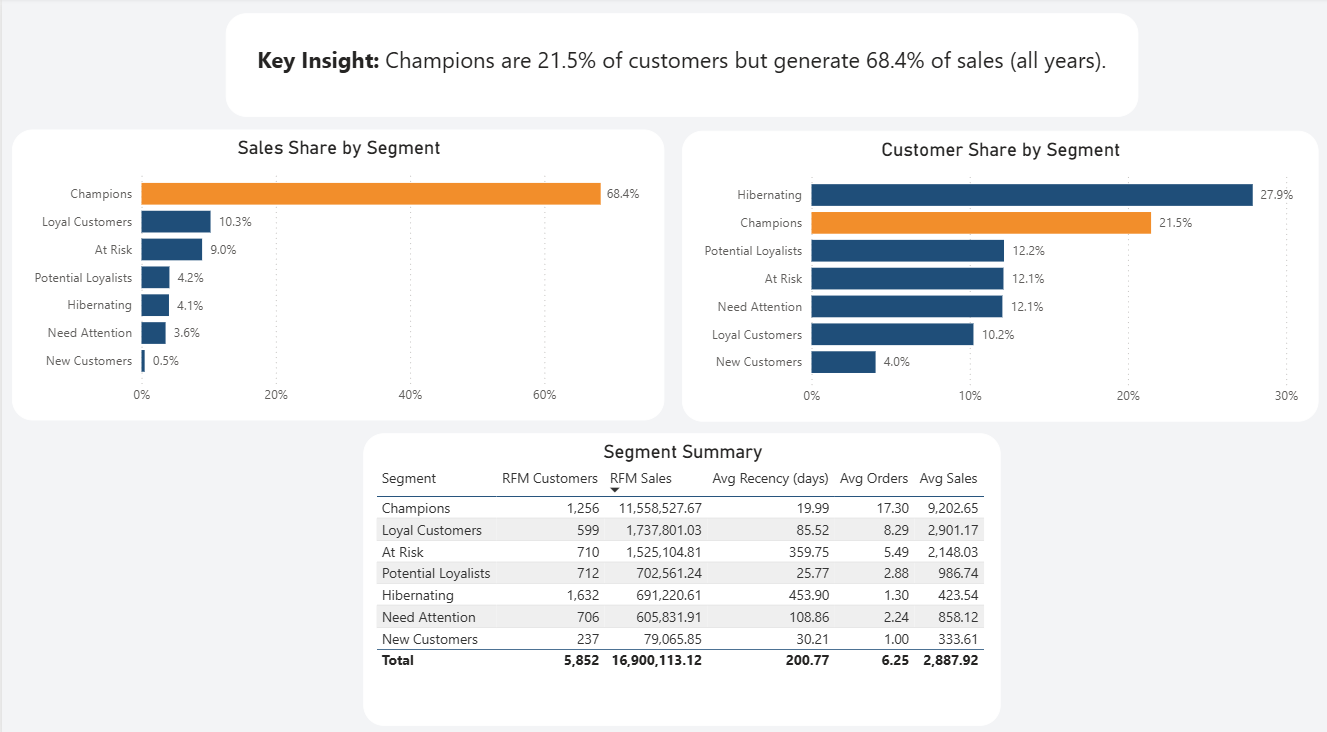

The dashboard page shown, as its layout file describes it:
{"tool":"powerbi","page":{"name":"RFM","canvas":[1280,720],"ordinal":3},"visuals":[{"type":"clusteredBarChart","title":"Sales Share by Segment","fields":{"Y":["_Measures.RFM Sales %"],"Category":["RFM_Segments.segment"]},"box":[9.7,127.9,629.8,281.1],"z":0},{"type":"clusteredBarChart","title":"Customer Share by Segment","fields":{"Category":["RFM_Segments.segment"],"Y":["_Measures.RFM Customers %"]},"box":[656.3,129.1,614.1,281.1],"z":1000},{"type":"tableEx","title":"Segment Summary","fields":{"Values":["RFM_Segments.segment","_Measures.RFM Customers","_Measures.RFM Sales","Avg(RFM_Segments.recency)","Avg(RFM_Segments.frequency)","Avg(RFM_Segments.monetary)"]},"box":[348.7,421,615.3,282.3],"z":2000},{"type":"textbox","box":[216,15.7,880.7,100.1],"z":3000}]}

Visuals, with their boxes in screenshot pixels (x1, y1, x2, y2), scaled from the page's 1280x720 canvas onto the 1327x732 screenshot:
"Sales Share by Segment" clusteredBarChart: {"left": 10, "top": 130, "right": 663, "bottom": 416}
"Customer Share by Segment" clusteredBarChart: {"left": 680, "top": 131, "right": 1317, "bottom": 417}
"Segment Summary" tableEx: {"left": 362, "top": 428, "right": 999, "bottom": 715}
textbox: {"left": 224, "top": 16, "right": 1137, "bottom": 118}
